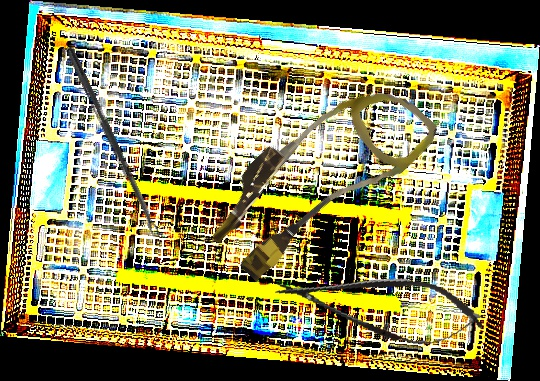Cannula: (194, 51, 443, 303)
Micro Scissor: (269, 256, 489, 357)
Surgical Spoon: (63, 45, 161, 238)
